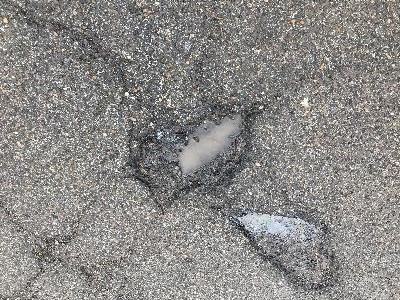pothole: (123, 100, 262, 215), (229, 209, 342, 294)
